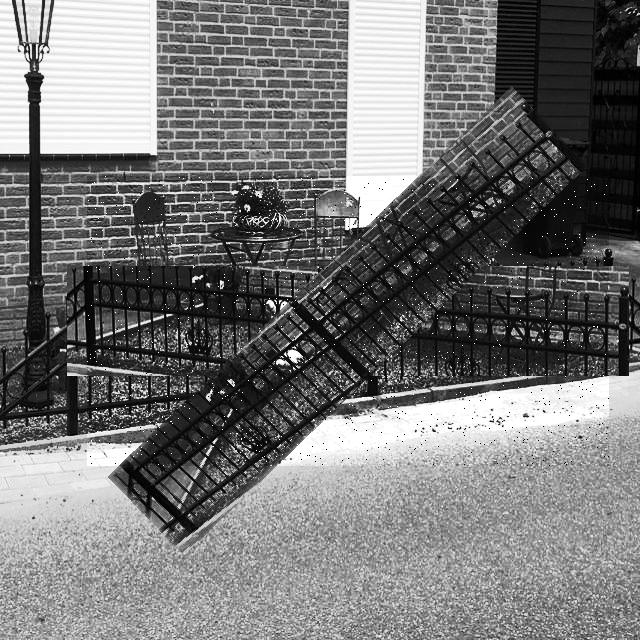fences: (87, 176, 609, 466)
